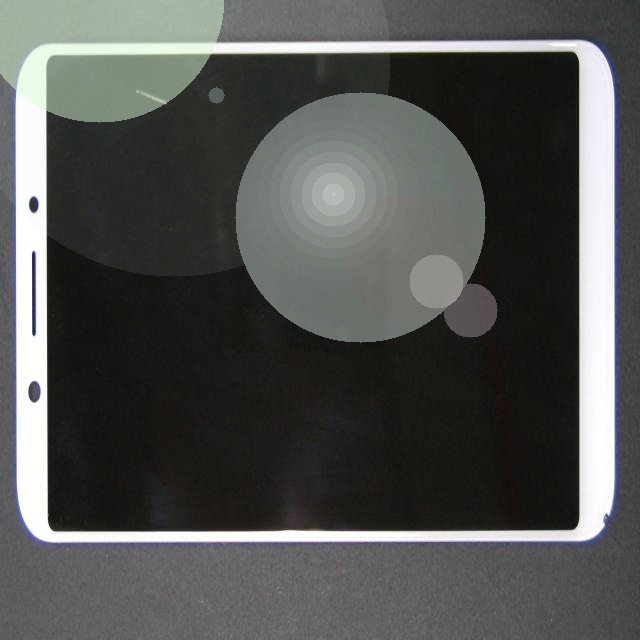scratch: (113, 51, 247, 126)
